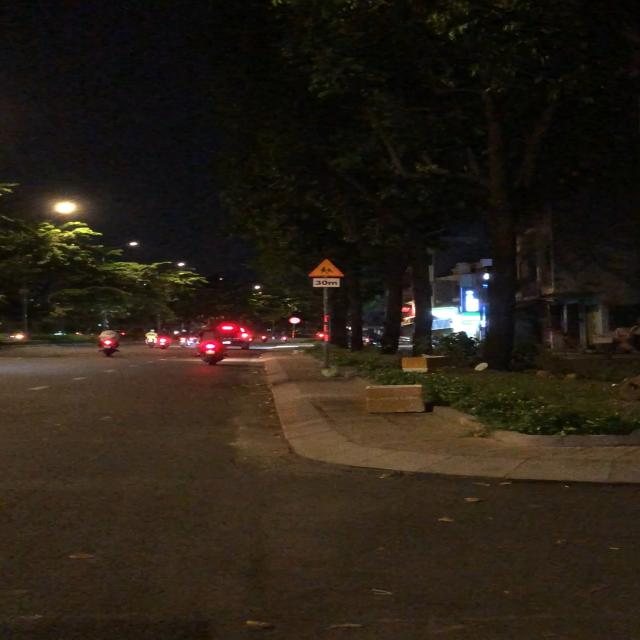Bien bao tre em: (307, 258, 345, 278)
